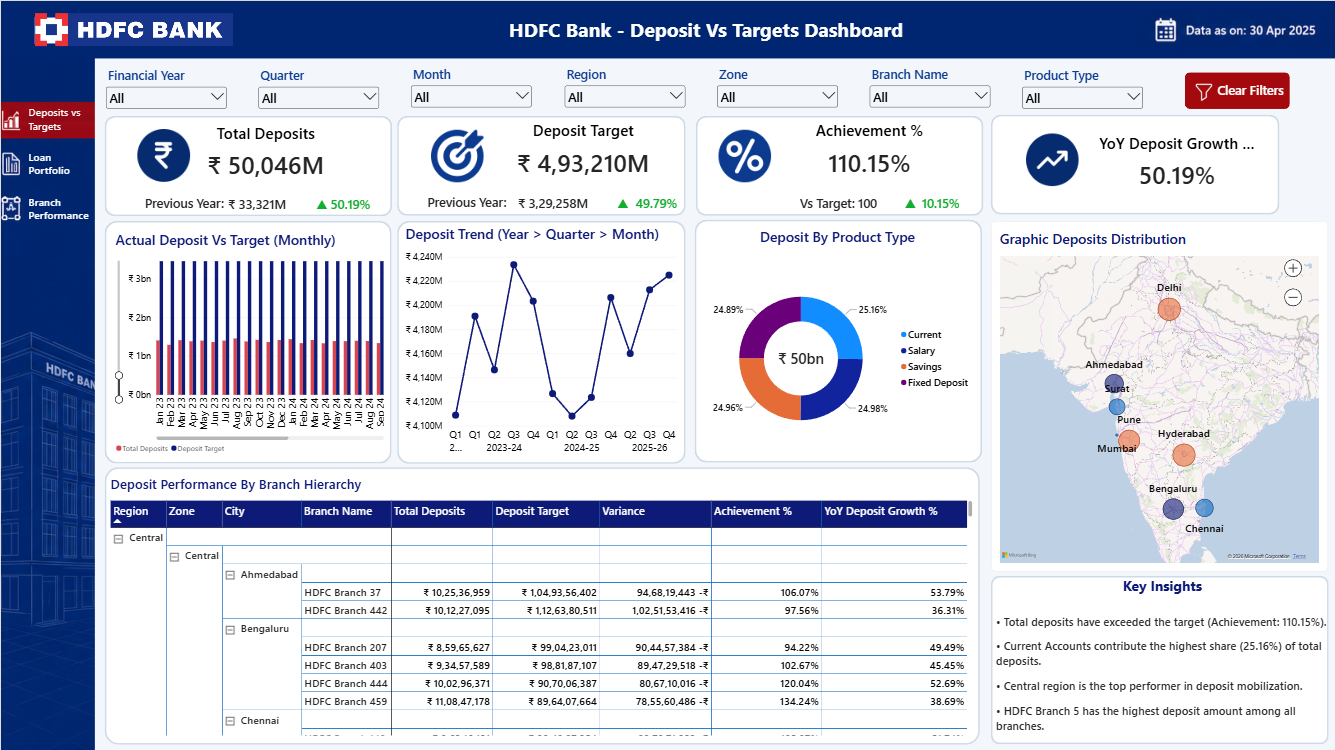

The page's visual inventory and layout, read from the dashboard file:
{"tool":"powerbi","page":{"name":"Deposits vs Targets","canvas":[1920,1080],"ordinal":0},"visuals":[{"type":"shape","box":[0,0,1920,96],"z":0},{"type":"group","id":"g1","title":"Group 5","box":[83.2,18.7,85.1,74.2],"z":0,"group":"g7"},{"type":"cardVisual","fields":{"Data":["Mesure Table.Total Deposits"]},"box":[298.7,201.3,352.9,121.2],"z":0,"group":"g3"},{"type":"cardVisual","fields":{"Data":["Mesure Table.Deposit Target"]},"box":[698.8,201.3,369.2,121.2],"z":0,"group":"g4"},{"type":"cardVisual","fields":{"Data":["Mesure Table.Achievement %"]},"box":[1112,201.3,363.7,121.2],"z":0,"group":"g2"},{"type":"cardVisual","fields":{"Data":["Mesure Table.Variance (Cr)"]},"box":[1521,201.3,374.6,121.2],"z":0,"group":"g5"},{"type":"image","box":[13.5,378.8,53.7,118.9],"z":0},{"type":"shape","box":[0,0,251.5,1067.7],"z":1000},{"type":"textbox","box":[171.2,18.1,298.6,74.2],"z":1000,"group":"g7"},{"type":"image","box":[359.3,225.1,59.7,57.9],"z":1000,"group":"g3"},{"type":"image","box":[765.2,225.1,60.6,67.1],"z":1000,"group":"g4"},{"type":"image","box":[1173.4,225.1,60.6,67.1],"z":1000,"group":"g2"},{"type":"image","box":[1578.5,225.1,60.6,67.1],"z":1000,"group":"g5"},{"type":"textbox","box":[101.7,404.7,142.8,116.9],"z":1000,"group":"g8"},{"type":"textbox","box":[616.2,24.6,900.3,56.3],"z":2000,"group":"g6"},{"type":"slicer","fields":{"Values":["DimDate.FY Start Year"]},"box":[294.3,112.5,181.8,84.4],"z":2000},{"type":"group","id":"g2","title":"Group 3","box":[1112,201.3,363.7,121.2],"z":2000,"group":"g5"},{"type":"image","box":[1662.4,25.3,38,59.7],"z":3000,"group":"g6"},{"type":"slicer","fields":{"Values":["DimDate.FY Quarter"]},"box":[490.9,112.5,188.3,84.4],"z":3000},{"type":"textbox","box":[1714.8,38,204.5,65.1],"z":4000,"group":"g6"},{"type":"slicer","fields":{"Values":["DimDate.MonthKey"]},"box":[694,112.5,196.9,80.1],"z":4000},{"type":"slicer","fields":{"Values":["DimBranch.Region"]},"box":[905.7,112.5,190.4,84.4],"z":5000},{"type":"slicer","fields":{"Values":["DimBranch.Zone"]},"box":[1110.9,112.5,203.4,88.7],"z":6000},{"type":"slicer","fields":{"Values":["DimBranch.BranchName"]},"box":[1329.1,112.5,203.4,88.7],"z":7000},{"type":"slicer","fields":{"Values":["DimBranch.BranchName"]},"box":[1547.4,112.5,203.4,88.7],"z":8000},{"type":"textbox","box":[1750.8,112.5,168.8,45.4],"z":9000},{"type":"image","box":[1750.8,112.5,51.9,51.9],"z":10000},{"type":"group","id":"g3","title":"Group 1","box":[298.7,201.3,352.8,121.2],"z":11000},{"type":"group","id":"g4","title":"Group 2","box":[698.8,201.3,367.9,121.2],"z":12000},{"type":"group","id":"g5","title":"Group 4","box":[1112,201.3,783.6,121.2],"z":13000},{"type":"lineChart","title":"Deposits Trend (drill down:Year > Quarter > Month)","fields":{"Category":["DimDate.Date.Variation.Date Hierarchy.Year","DimDate.Date.Variation.Date Hierarchy.Quarter","DimDate.Date.Variation.Date Hierarchy.Month","DimDate.Date.Variation.Date Hierarchy.Day"],"Y":["Mesure Table.Total Deposits"]},"box":[722.1,340.2,418,361.9],"z":14000},{"type":"donutChart","title":" Deposits by Product Type","fields":{"Category":["DimProduct.ProductName"],"Y":["Mesure Table.Total Deposits"]},"box":[1161.8,343.8,371.1,360.4],"z":15000},{"type":"tableEx","fields":{"Values":["DimBranch.Region","DimBranch.Zone","DimBranch.City","DimBranch.BranchName","Mesure Table.Deposit Target","Mesure Table.Total Deposits","Mesure Table.Achievement %","Mesure Table.Variance (Cr)"]},"box":[283.5,709.8,1221.5,368.6],"z":16000},{"type":"clusteredColumnChart","fields":{"Category":["DimDate.MonthName"],"Y":["Mesure Table.Deposit Target","Mesure Table.Total Deposits"]},"box":[295,340.2,403.6,369.2],"z":17000},{"type":"map","fields":{"Category":["DimBranch.City"],"Series":["CityBands.Deposit Band"],"Size":["Mesure Table.Total Deposits"]},"box":[1547.4,350.6,348.4,461],"z":18000},{"type":"shape","box":[1532.8,836.1,363.7,242.5],"z":19000},{"type":"textbox","box":[1559.9,854.2,304,193.6],"z":20000},{"type":"textbox","box":[170.1,18.1,108.6,77.8],"z":21000},{"type":"textbox","box":[1751,930,169,150],"z":22000},{"type":"group","id":"g6","title":"Group 7","box":[83.2,18.1,1836.8,85.1],"z":23000},{"type":"image","box":[83.2,18.7,85.1,74.2],"z":24000,"group":"g1"},{"type":"image","box":[12.7,206.3,56.1,52.5],"z":24000},{"type":"image","box":[12.7,313.1,56.1,52.5],"z":25000},{"type":"textbox","box":[68.8,224.4,182.8,34.4],"z":26000},{"type":"group","id":"g7","title":"Group 6","box":[83.2,18.1,386.6,74.8],"z":26002,"group":"g6"},{"type":"textbox","box":[1751,812,169,150],"z":27000},{"type":"textbox","box":[83.2,322.1,141.2,43.4],"z":28000},{"type":"image","box":[13,556.2,231.6,424.2],"z":28001},{"type":"image","box":[15.1,402.5,67.1,60.6],"z":28002,"group":"g8"},{"type":"group","id":"g8","title":"Group 8","box":[15.1,402.5,229.4,119],"z":28003}]}

Visuals, with their boxes on the page's 1920x1080 design canvas (x1, y1, x2, y2). These are canvas units, not pixel positions in the 1335x750 screenshot, which may show the page scaled, cropped or inside an application window:
shape: bbox=[0, 0, 1920, 96]
"Group 5" group: bbox=[83, 19, 168, 93]
cardVisual - Mesure Table.Total Deposits: bbox=[299, 201, 652, 322]
cardVisual - Mesure Table.Deposit Target: bbox=[699, 201, 1068, 322]
cardVisual - Mesure Table.Achievement %: bbox=[1112, 201, 1476, 322]
cardVisual - Mesure Table.Variance (Cr): bbox=[1521, 201, 1896, 322]
image: bbox=[14, 379, 67, 498]
shape: bbox=[0, 0, 252, 1068]
textbox: bbox=[171, 18, 470, 92]
image: bbox=[359, 225, 419, 283]
image: bbox=[765, 225, 826, 292]
image: bbox=[1173, 225, 1234, 292]
image: bbox=[1578, 225, 1639, 292]
textbox: bbox=[102, 405, 244, 522]
textbox: bbox=[616, 25, 1516, 81]
slicer - DimDate.FY Start Year: bbox=[294, 112, 476, 197]
"Group 3" group: bbox=[1112, 201, 1476, 322]
image: bbox=[1662, 25, 1700, 85]
slicer - DimDate.FY Quarter: bbox=[491, 112, 679, 197]
textbox: bbox=[1715, 38, 1919, 103]
slicer - DimDate.MonthKey: bbox=[694, 112, 891, 193]
slicer - DimBranch.Region: bbox=[906, 112, 1096, 197]
slicer - DimBranch.Zone: bbox=[1111, 112, 1314, 201]
slicer - DimBranch.BranchName: bbox=[1329, 112, 1532, 201]
slicer - DimBranch.BranchName: bbox=[1547, 112, 1751, 201]
textbox: bbox=[1751, 112, 1920, 158]
image: bbox=[1751, 112, 1803, 164]
"Group 1" group: bbox=[299, 201, 652, 322]
"Group 2" group: bbox=[699, 201, 1067, 322]
"Group 4" group: bbox=[1112, 201, 1896, 322]
"Deposits Trend (drill down:Year > Quarter > Month)" lineChart: bbox=[722, 340, 1140, 702]
" Deposits by Product Type" donutChart: bbox=[1162, 344, 1533, 704]
tableEx - DimBranch.Region x DimBranch.Zone: bbox=[284, 710, 1505, 1078]
clusteredColumnChart - DimDate.MonthName x Mesure Table.Deposit Target: bbox=[295, 340, 699, 709]
map - DimBranch.City x CityBands.Deposit Band: bbox=[1547, 351, 1896, 812]
shape: bbox=[1533, 836, 1896, 1079]
textbox: bbox=[1560, 854, 1864, 1048]
textbox: bbox=[170, 18, 279, 96]
textbox: bbox=[1751, 930, 1920, 1080]
"Group 7" group: bbox=[83, 18, 1920, 103]
image: bbox=[83, 19, 168, 93]
image: bbox=[13, 206, 69, 259]
image: bbox=[13, 313, 69, 366]
textbox: bbox=[69, 224, 252, 259]
"Group 6" group: bbox=[83, 18, 470, 93]
textbox: bbox=[1751, 812, 1920, 962]
textbox: bbox=[83, 322, 224, 366]
image: bbox=[13, 556, 245, 980]
image: bbox=[15, 402, 82, 463]
"Group 8" group: bbox=[15, 402, 244, 522]
